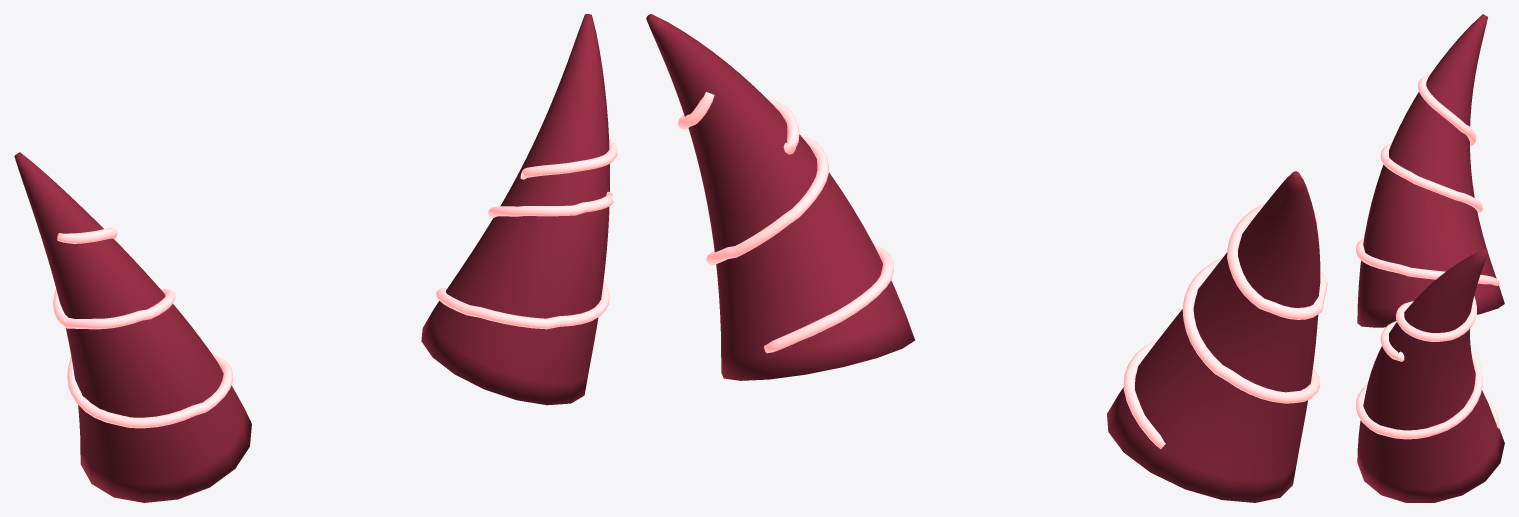
The model's file is acc_horns_male.glb.
The picture shows the model from 3 angles, left to right: view 1: azimuth 30°, elevation 25°; view 2: azimuth 150°, elevation 25°; view 3: azimuth 270°, elevation 25°; orthographic projection. The views are drawn at different scales.
Visible parts, largest first — view 1: horns; view 2: horns; view 3: horns.
Boxes of the visible parts, left/top/right/bottom form: horns: left=14, top=14, right=617, bottom=502; horns: left=646, top=14, right=1327, bottom=502; horns: left=1356, top=14, right=1504, bottom=502.
Size of the model in its own units: 0.1498 by 0.0801 by 0.0395.
